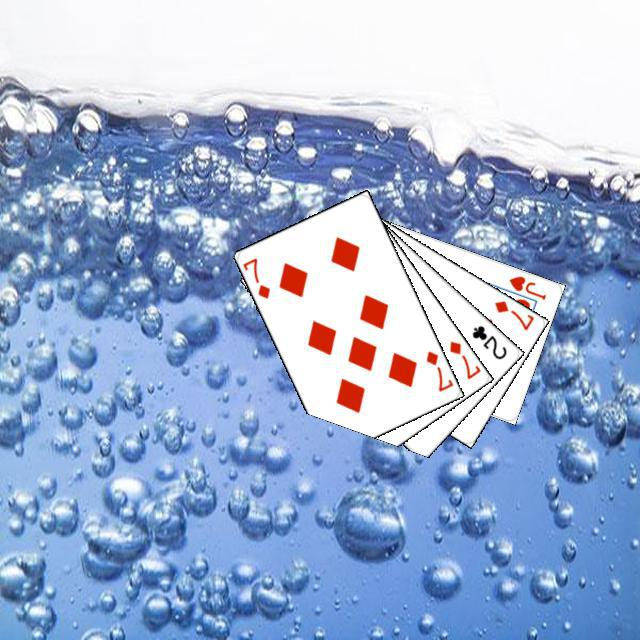2c: (467, 320, 509, 361)
7d: (444, 336, 482, 381), (489, 295, 535, 332), (421, 346, 454, 393), (239, 253, 272, 300)
Jh: (504, 271, 548, 302)
